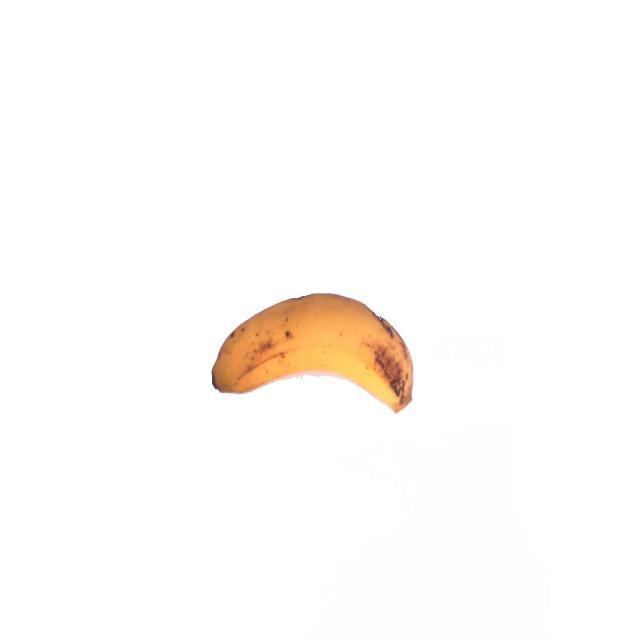banana: (208, 289, 418, 418)
